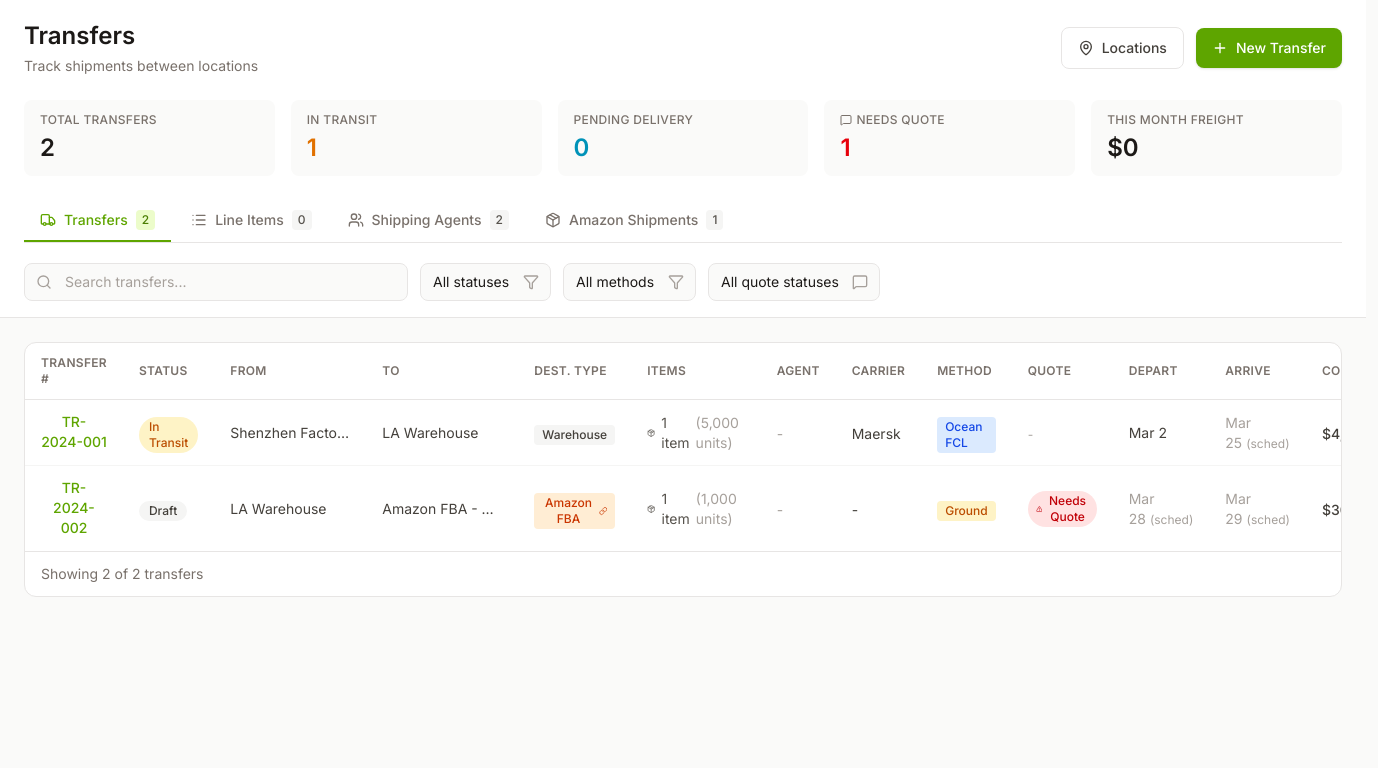
Test case: Transfers Integration › switching tabs shows different content
This screenshot has width=1378, height=768.
Expected: the button "TR-2024-001" is shown, [41, 412, 107, 452]
Note: Switch to shipping agents tab - click the button containing "Shipping Agents" text
Click the button "Shipping Agents 2".
click(428, 221)  # box [332, 200, 525, 242]
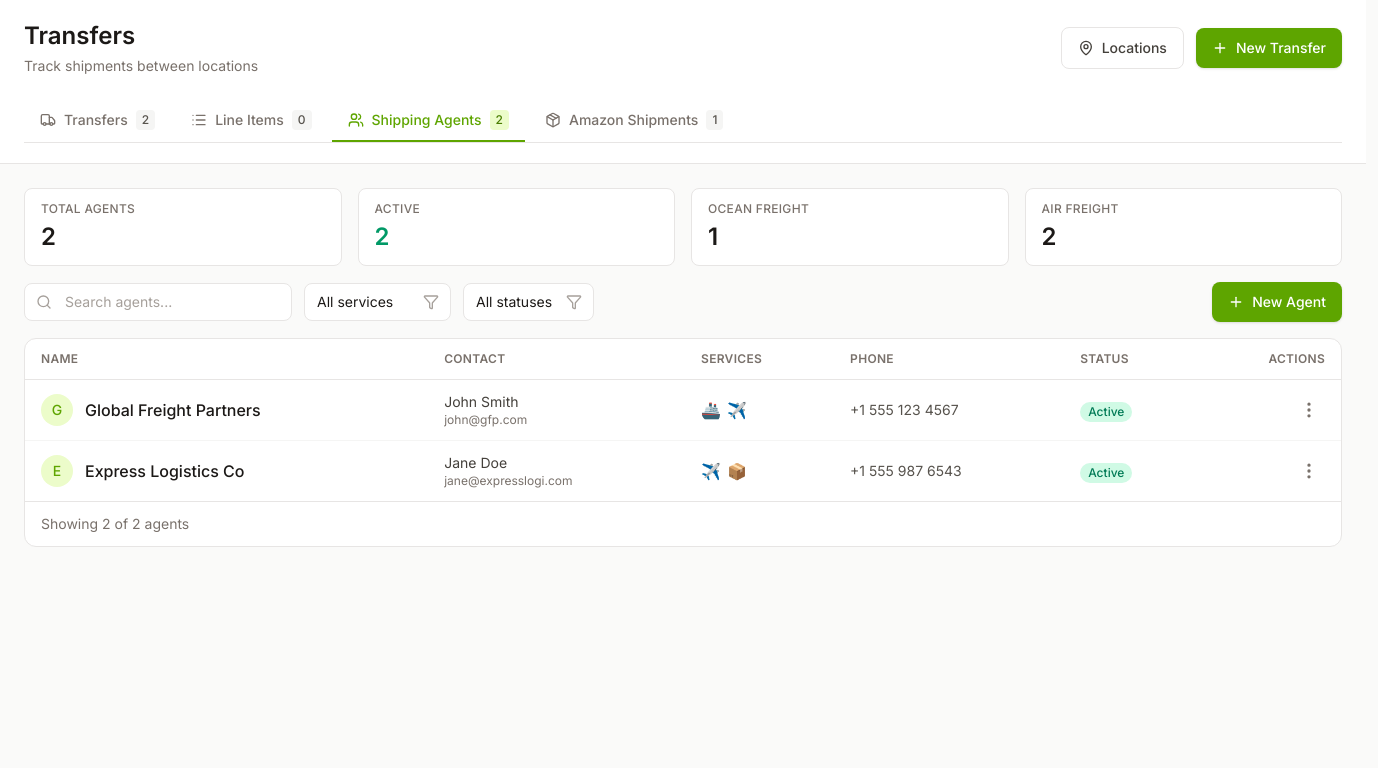
Now the text "Global Freight Partners" is shown, box [85, 400, 261, 420]
Now the button "TR-2024-001" is gone
